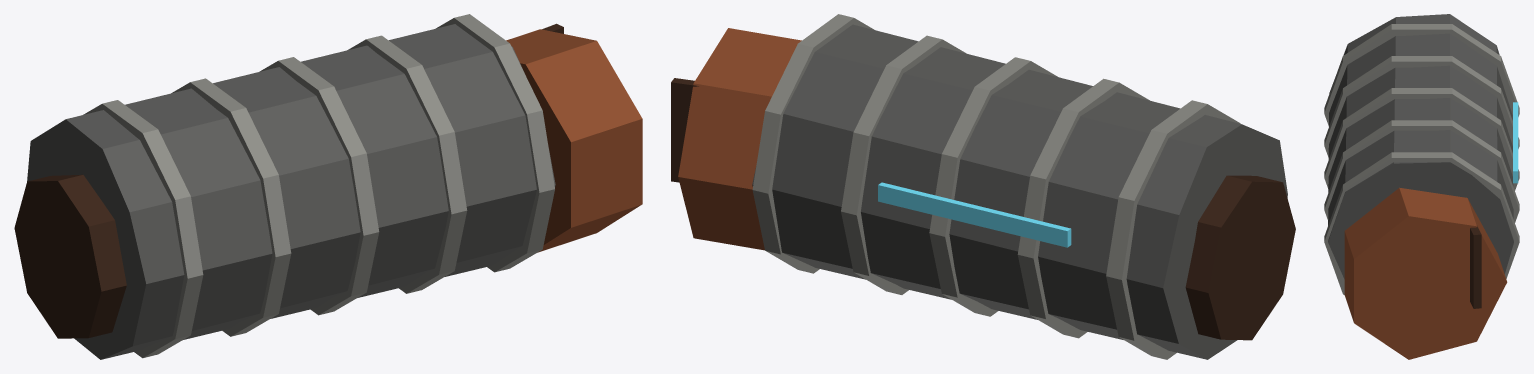
File: habitat_cylinder.glb
3 renders of one model, left to right at view 1: azimuth 30°, elevation 25°; view 2: azimuth 150°, elevation 25°; view 3: azimuth 270°, elevation 25°, orthographic. The views are drawn at different scales.
Parts seen in each view (by area): view 1: habitat_cylinder; view 2: habitat_cylinder; view 3: habitat_cylinder.
Boxes of the visible parts, left/top/right/bottom form: habitat_cylinder: left=14, top=14, right=642, bottom=359; habitat_cylinder: left=671, top=14, right=1295, bottom=359; habitat_cylinder: left=1324, top=14, right=1519, bottom=359.
Size of the model in its own units: 17.2 by 6.85 by 7.2.
